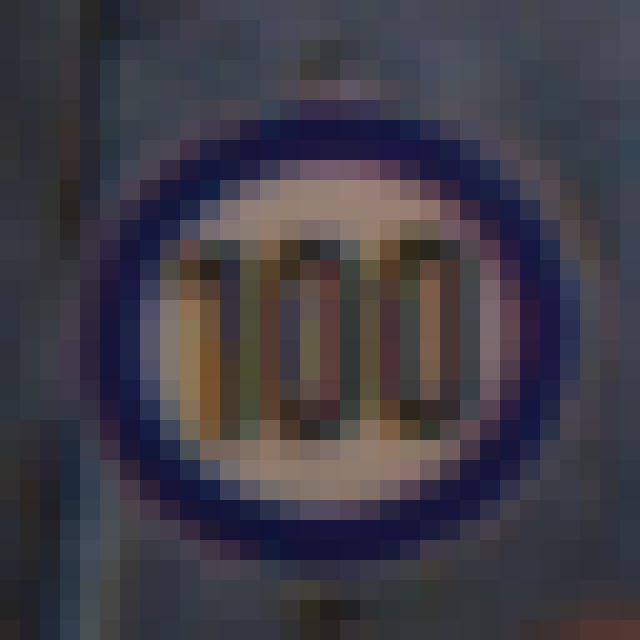SPEED LIMIT 100: (83, 109, 573, 574)
